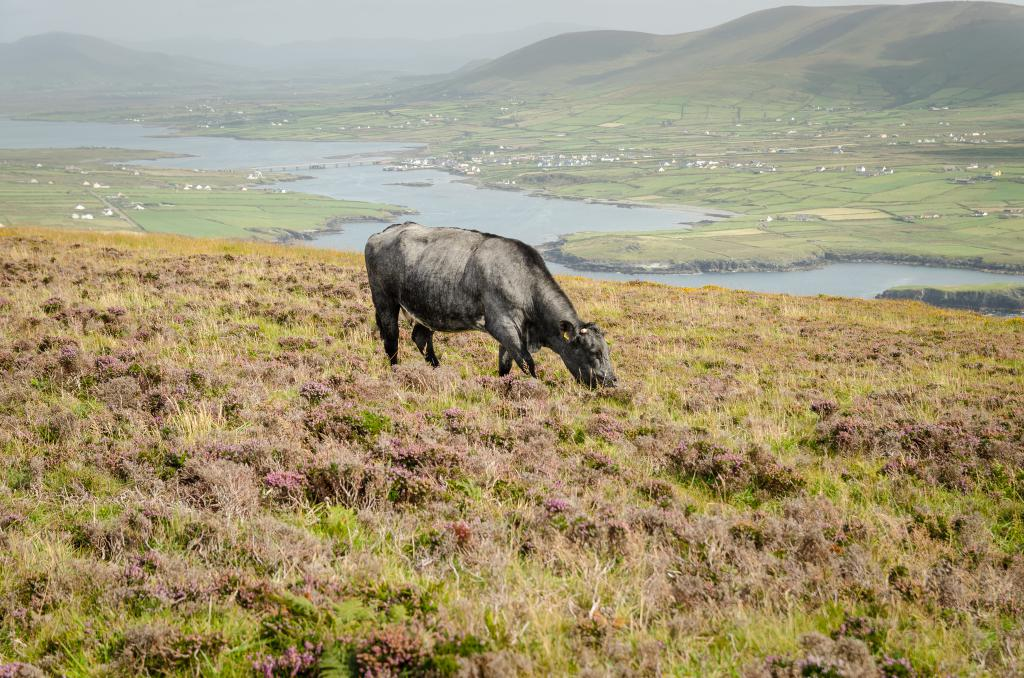Animal: (362, 219, 614, 387)
